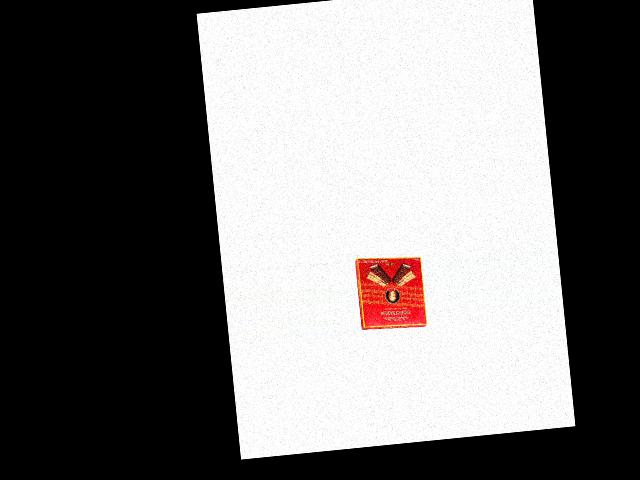chocolate: (353, 250, 429, 331)
